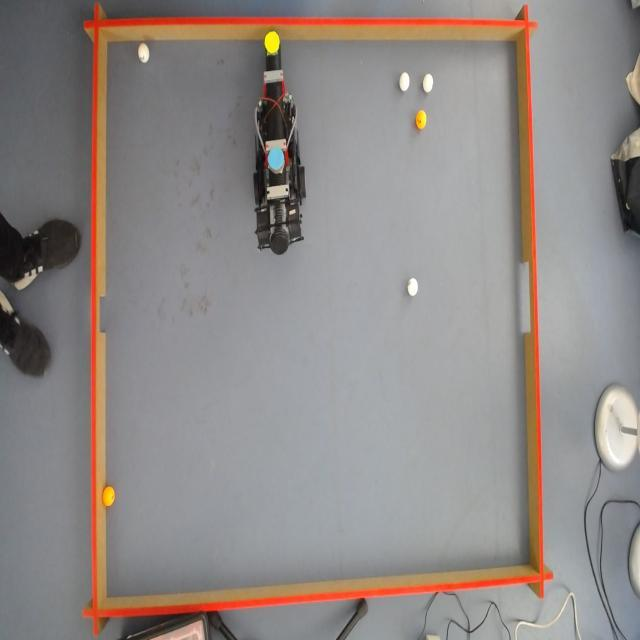orange: (102, 485, 115, 506), (414, 112, 426, 129)
robot: (256, 69, 306, 258)
robot-rear: (268, 148, 284, 170)
white: (265, 34, 278, 54), (421, 74, 433, 94), (408, 278, 419, 298), (137, 42, 147, 64), (400, 70, 410, 91)
